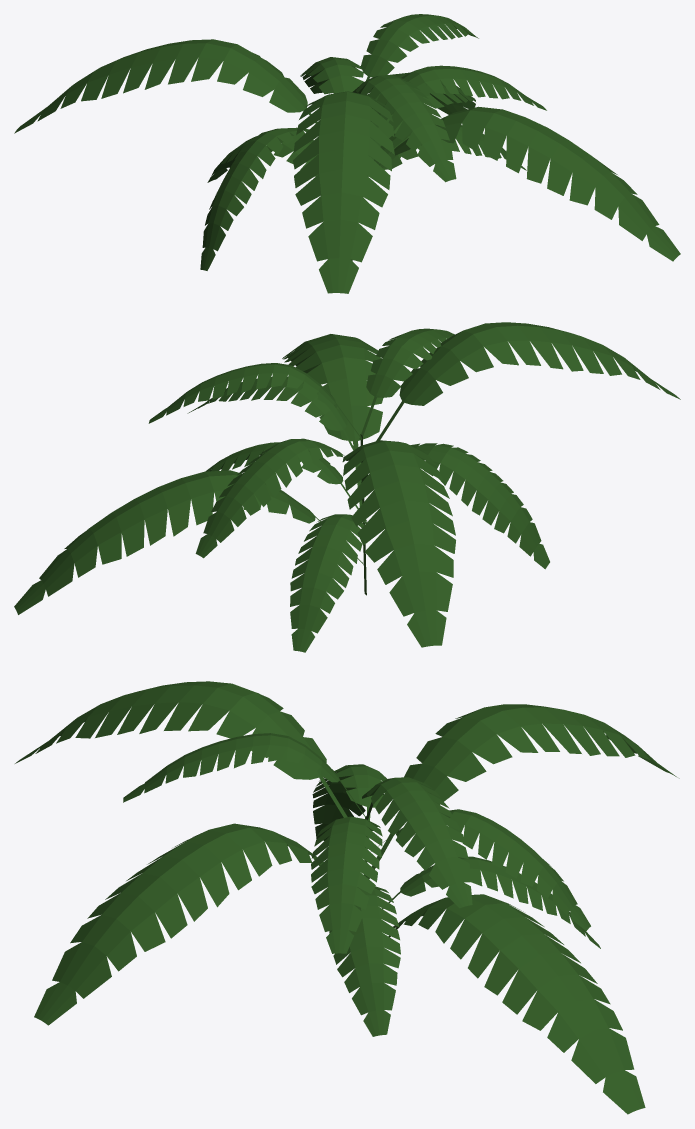
Rendered from kust2.fbx.
The picture shows the model from 3 angles, top to bottom: view 1: azimuth 30°, elevation 25°; view 2: azimuth 150°, elevation 25°; view 3: azimuth 270°, elevation 25°; orthographic projection. The views are drawn at different scales.
Visible parts, largest first — view 1: grass2; view 2: grass2; view 3: grass2.
Boxes of the visible parts, x1=… form: grass2: x1=14, y1=14, x2=680, y2=293; grass2: x1=14, y1=322, x2=680, y2=652; grass2: x1=15, y1=681, x2=679, y2=1114.
Bounding box in the file's own units: 314 × 161 × 356.
